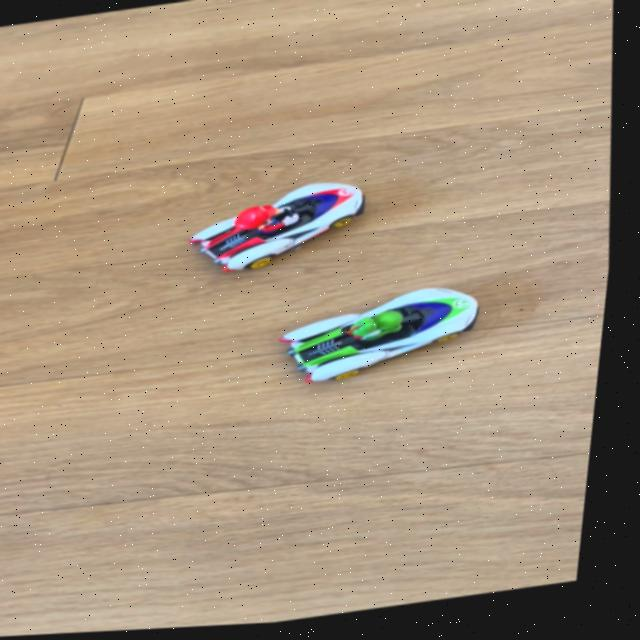mario: (175, 175, 389, 286)
yoshi: (274, 280, 509, 395)
